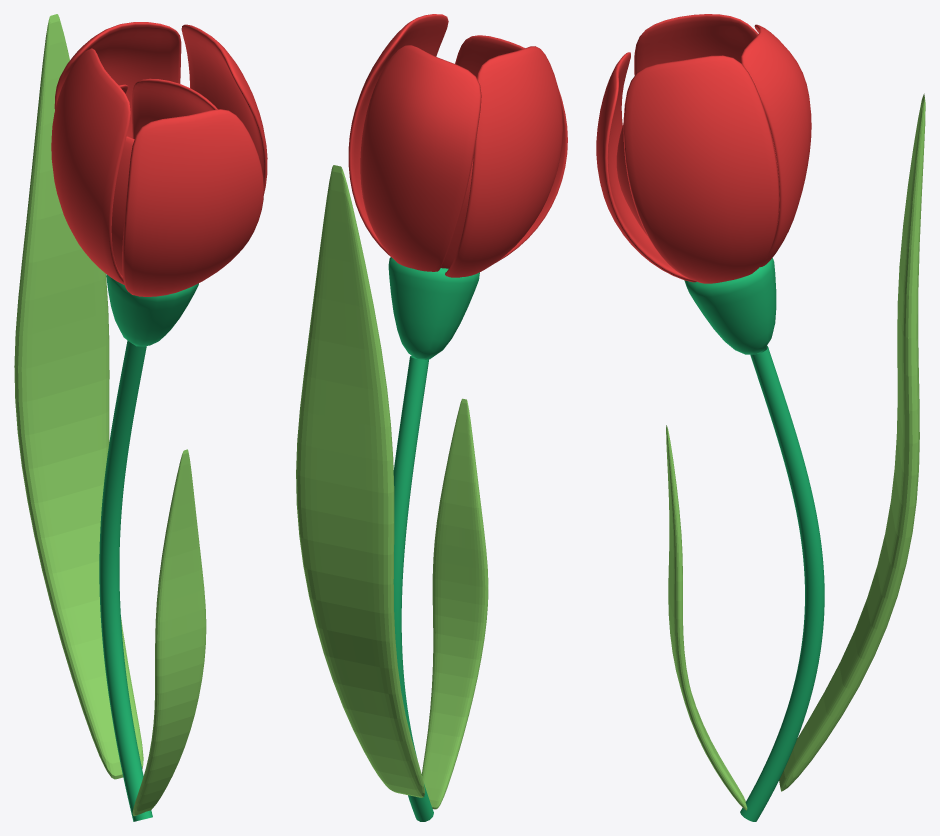
The model's file is Tulps.fbx.
The picture shows the model from 3 angles, left to right: view 1: azimuth 30°, elevation 25°; view 2: azimuth 150°, elevation 25°; view 3: azimuth 270°, elevation 25°; orthographic projection. The views are drawn at different scales.
Visible parts, largest first — view 1: Tulps_United; view 2: Tulps_United; view 3: Tulps_United.
Boxes of the visible parts, x1,y1,x2,y2 form: Tulps_United: [14, 14, 267, 821]; Tulps_United: [296, 14, 567, 821]; Tulps_United: [596, 14, 925, 821].
Size of the model in its own units: 104 by 441 by 168.
